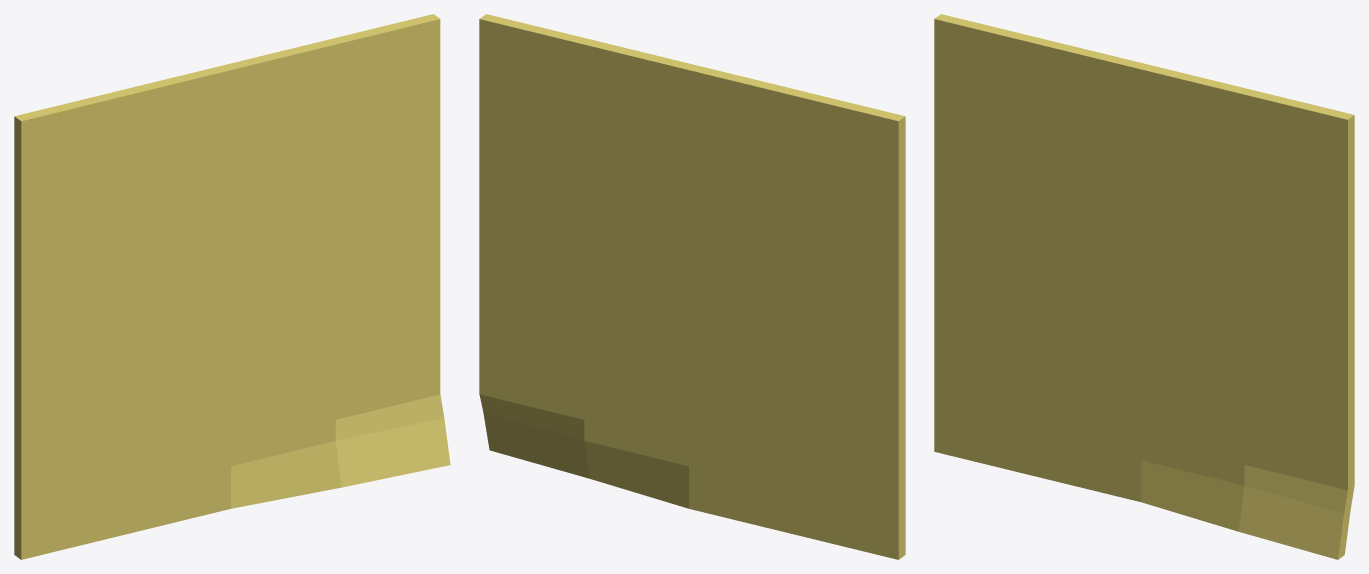
File: postIt.fbx
The picture shows the model from 3 angles, left to right: view 1: azimuth 30°, elevation 25°; view 2: azimuth 150°, elevation 25°; view 3: azimuth 330°, elevation 25°; orthographic projection.
Parts seen in each view (by area): view 1: Post It; view 2: Post It; view 3: Post It.
Part boxes in pixels (left/top/right/bottom): Post It: left=14, top=14, right=450, bottom=559; Post It: left=479, top=14, right=905, bottom=559; Post It: left=934, top=14, right=1354, bottom=559.
Bounding box in the file's own units: 200 × 200 × 13.99.
